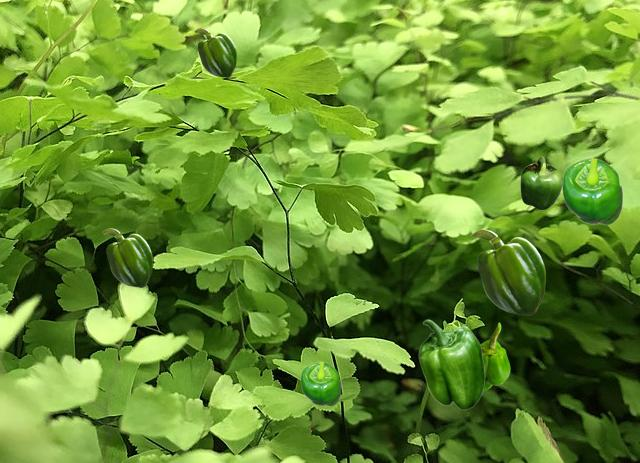bell_pepper: (471, 229, 544, 314), (418, 319, 484, 409), (562, 157, 622, 224), (102, 228, 151, 286), (520, 156, 562, 209), (194, 28, 235, 76), (481, 322, 509, 389), (300, 361, 340, 405)
